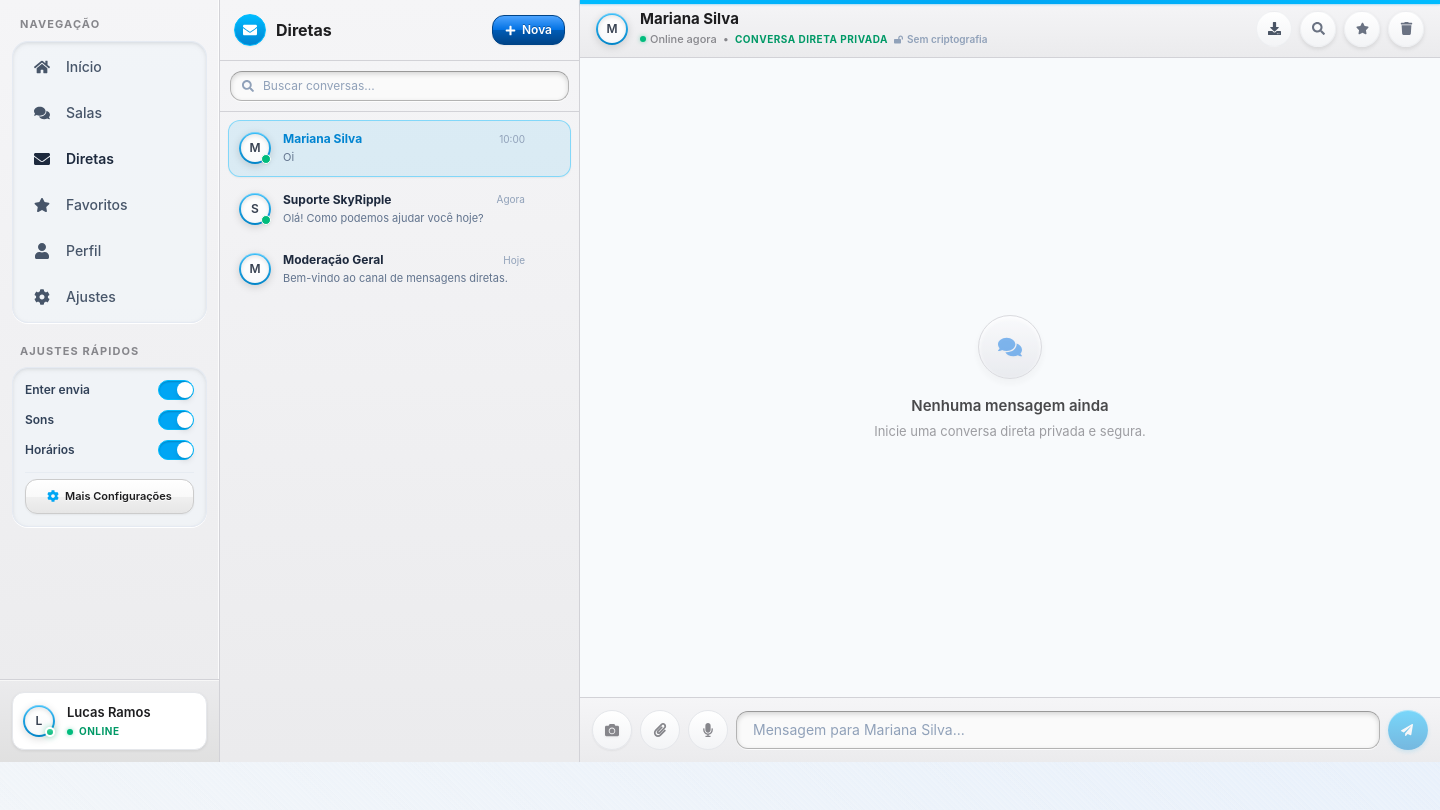
Test: Directs com criptografia ponta a ponta › contato retornando 404 na chave: não estoura erro, mostra "Sem criptografia" e envia em texto normal
The image size is (1440, 810).
Click the heading "Mariana Silva" next to "10:00": (323, 139) [283,131,362,147]
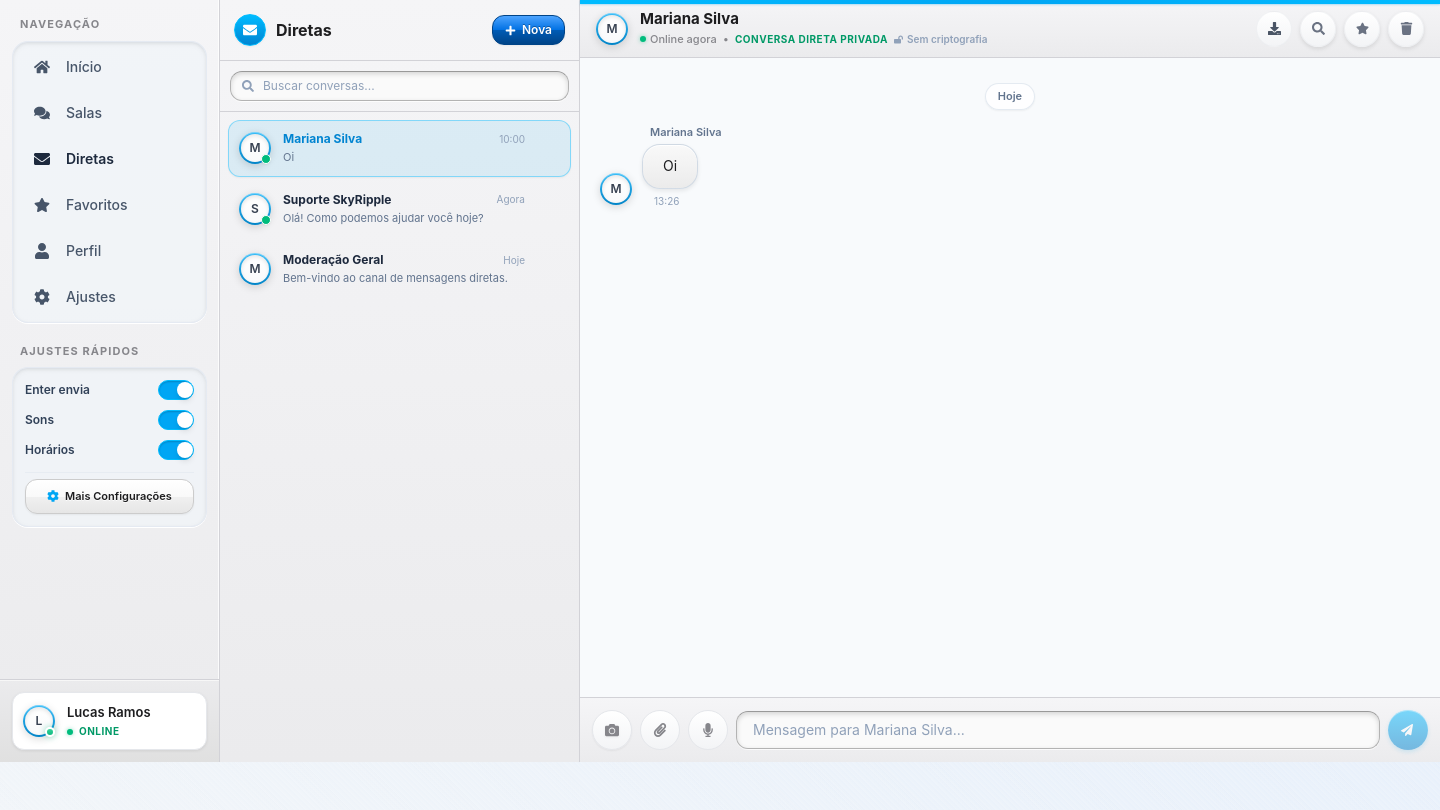
Check: the element with test id "e2ee-badge-off" is shown, box [894,32,988,46]
In the field with placeholder "Mensagem para Mariana Silva...": (1058, 730) [736,711,1380,749], type "Texto sem 404 crash"
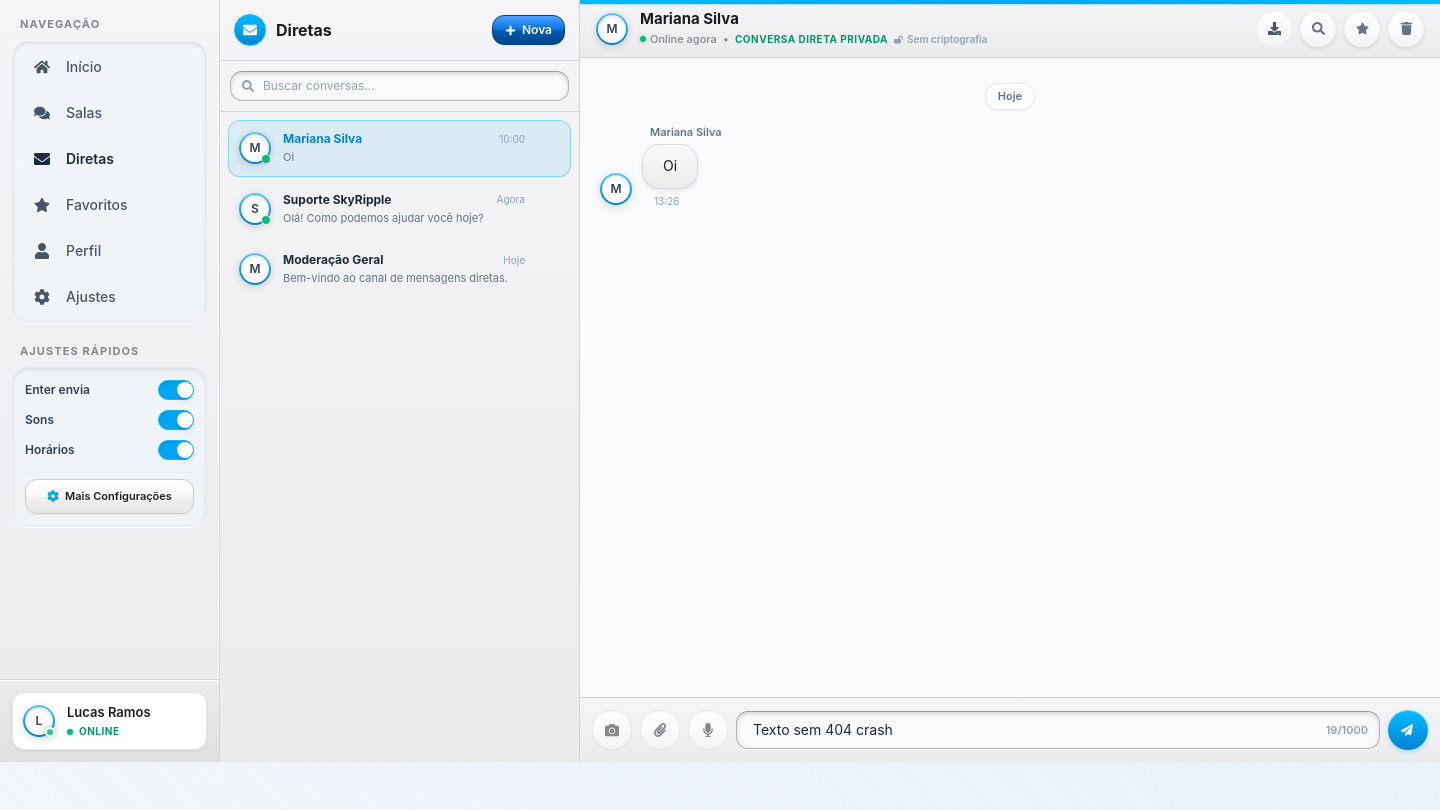
Click the button named "Enviar mensagem": (1408, 730) [1388,710,1428,750]
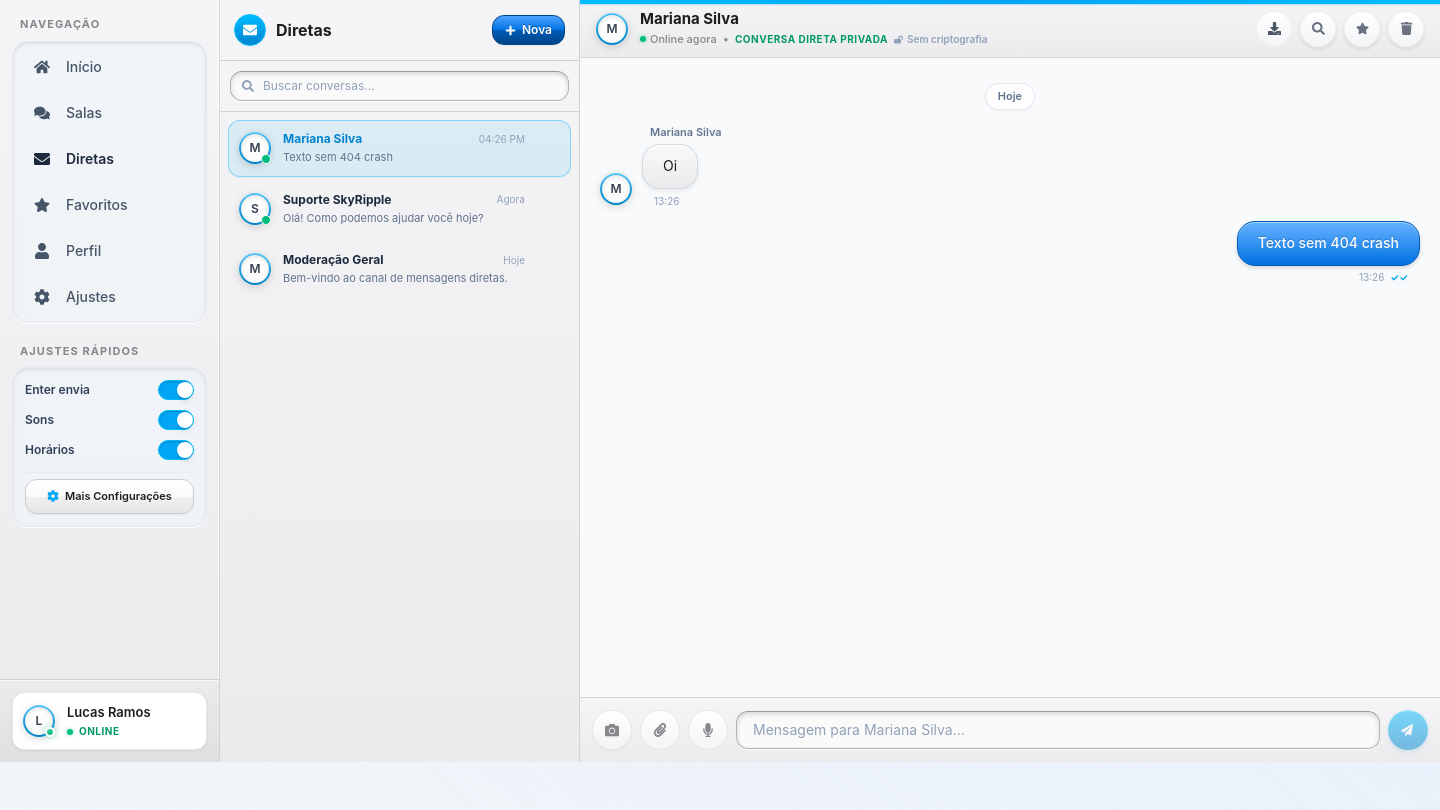
Check: the text "Texto sem 404 crash" below "04:26 PM" is shown, box [283,150,393,164]
